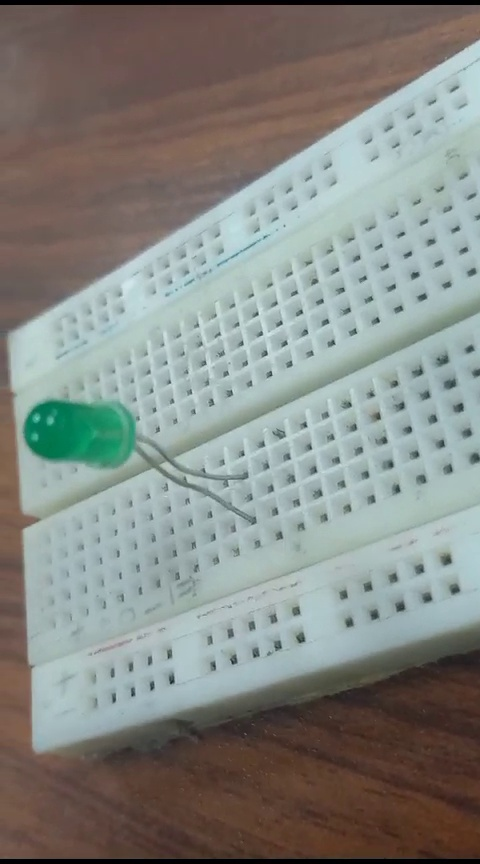LED: (20, 384, 254, 519)
